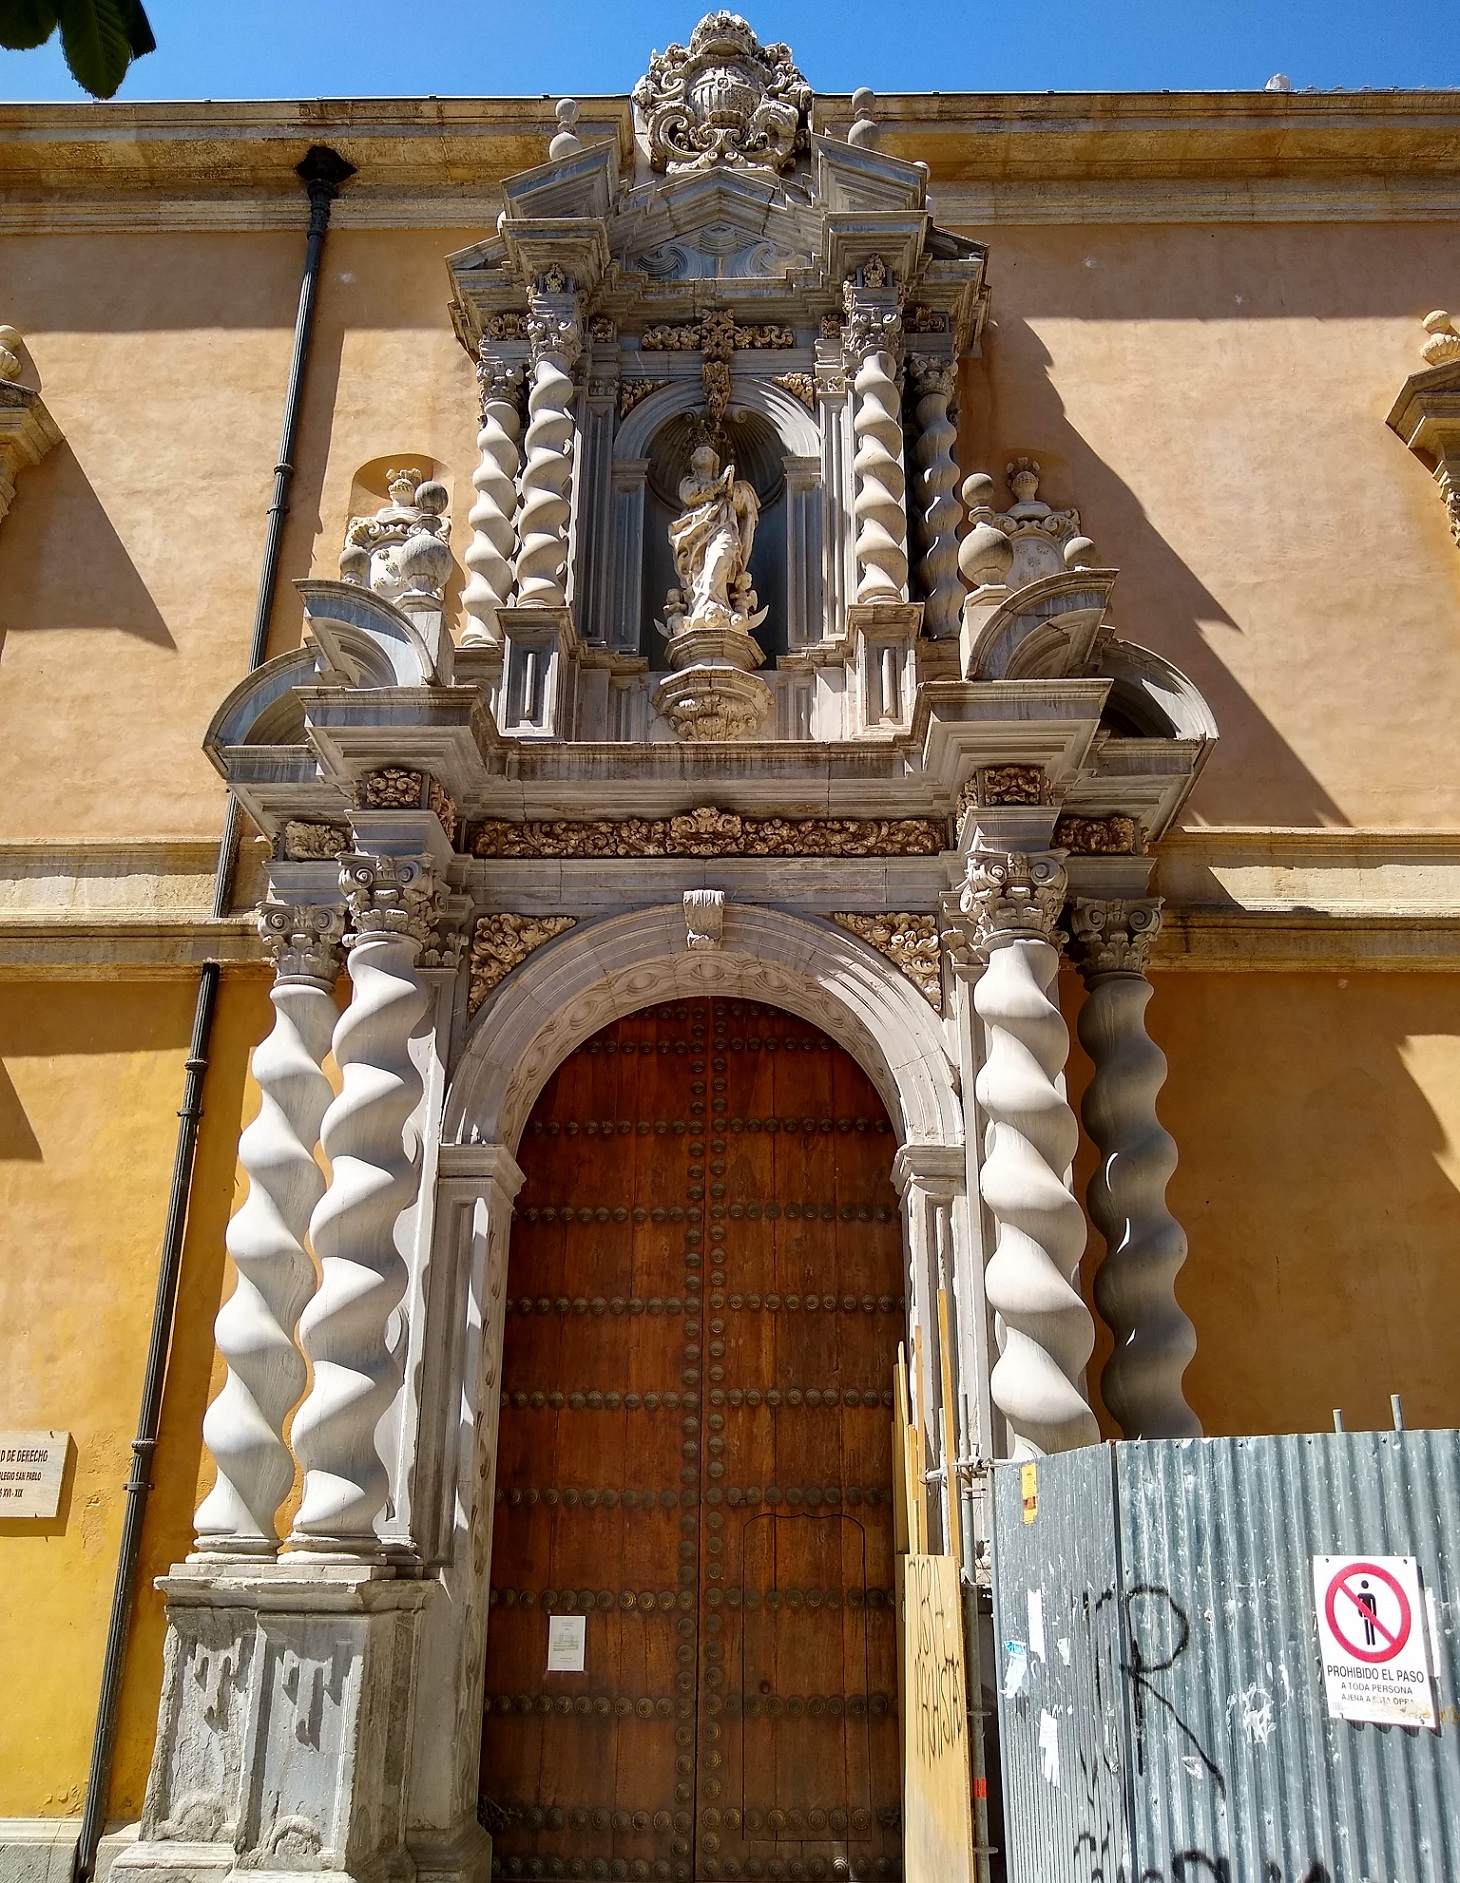arco-medio-punto: (471, 938, 934, 1224)
columna-salomonica: (290, 935, 436, 1539), (193, 978, 347, 1541), (969, 935, 1101, 1461), (1070, 971, 1209, 1437), (511, 353, 582, 605), (848, 345, 913, 605), (457, 397, 524, 645), (908, 391, 969, 637)
